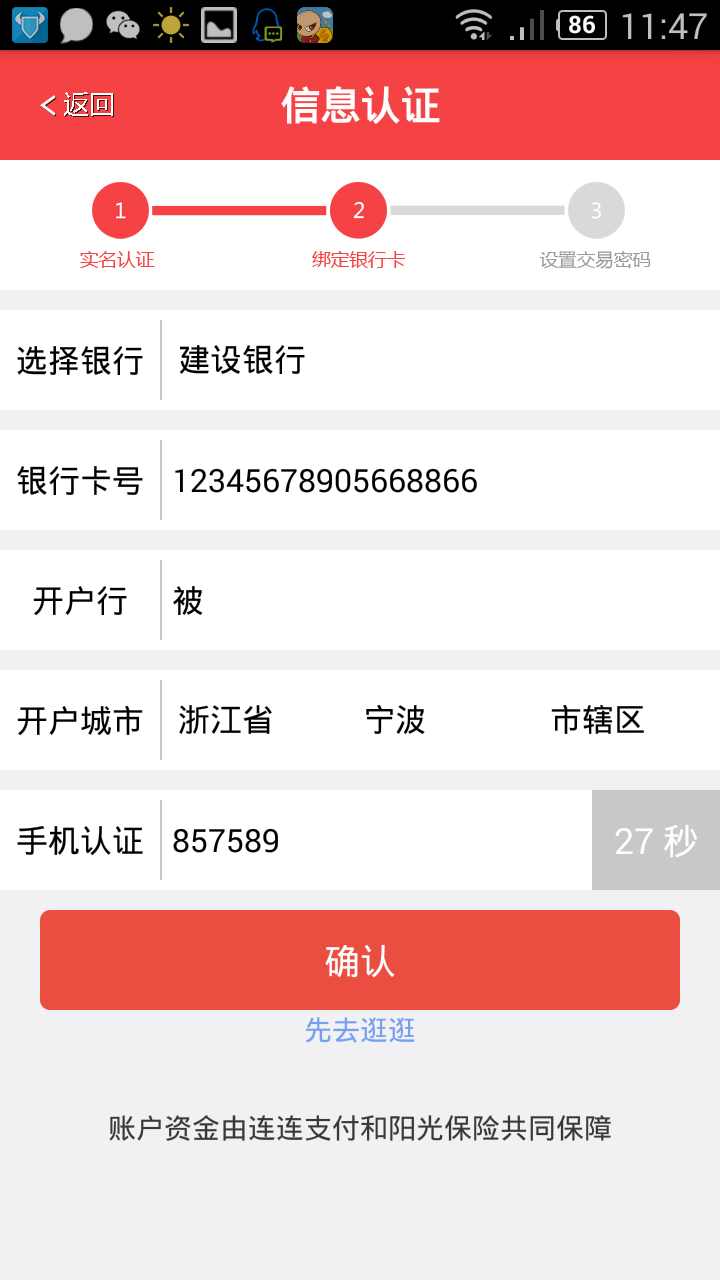imgview: (62, 165, 662, 287)
